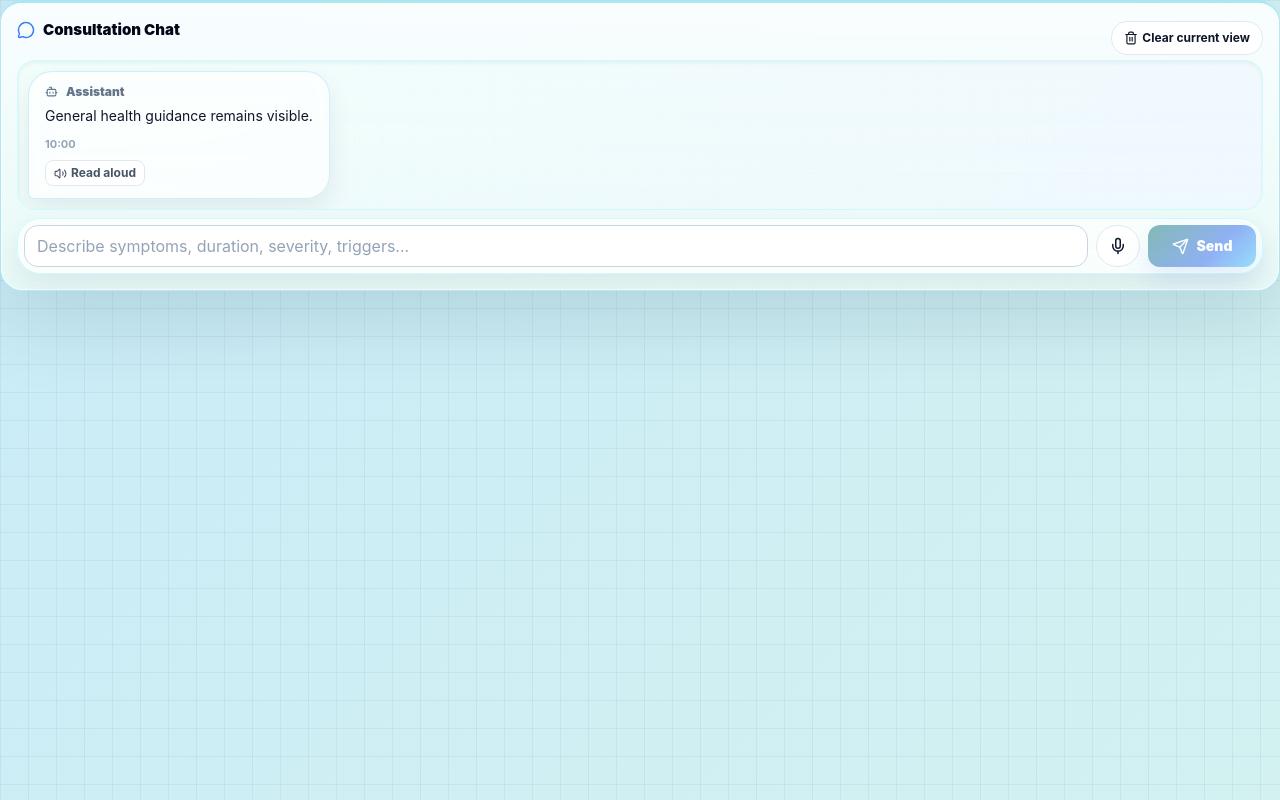
Test case: voice chat controls › starts read aloud only after user action and keeps response text visible
This screenshot has width=1280, height=800.
expect the text "General health guidance remains visible." is shown: met, box [45,104,313,128]
Step 1. Click the button with aria-label "Read response aloud" → [95, 173], box [45,160,145,186]
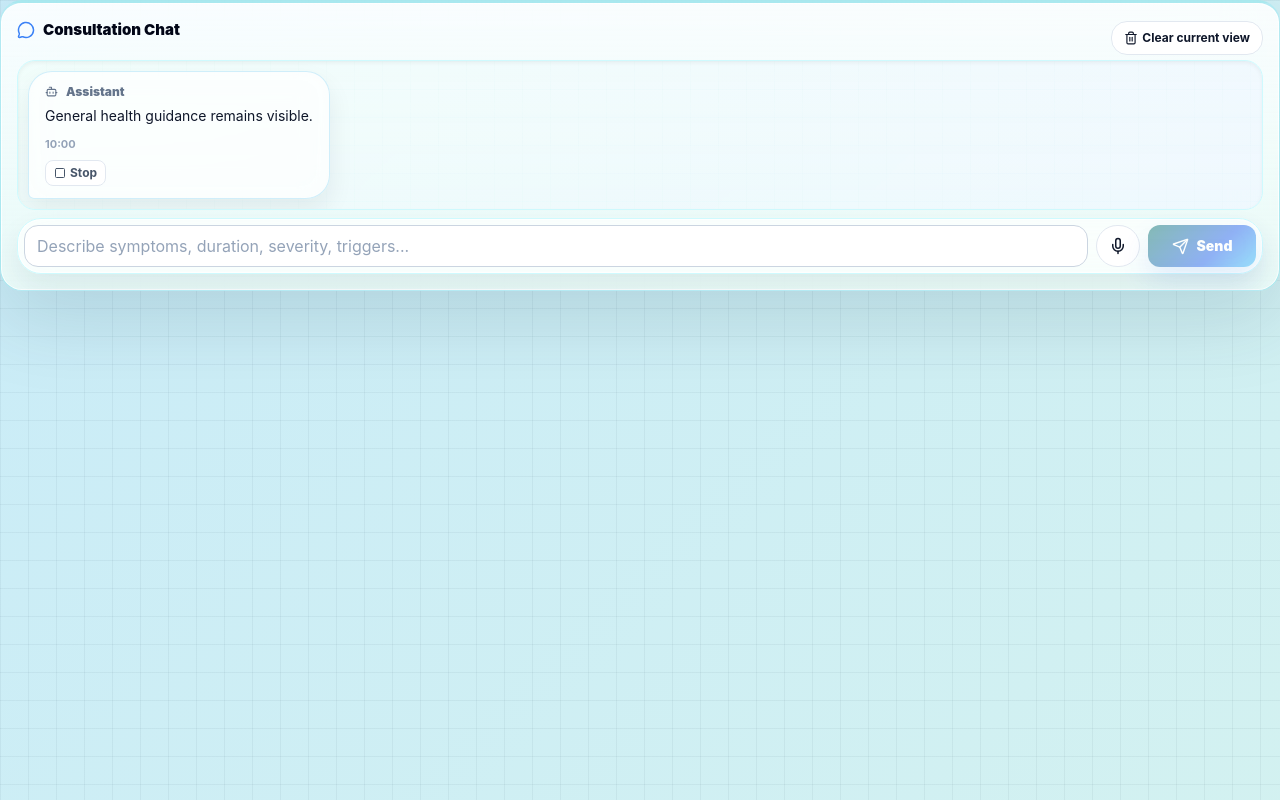
expect the text "General health guidance remains visible." is shown: met, box [45,104,313,128]
expect the button with aria-label "Stop reading response aloud" is shown: met, box [45,160,106,186]
